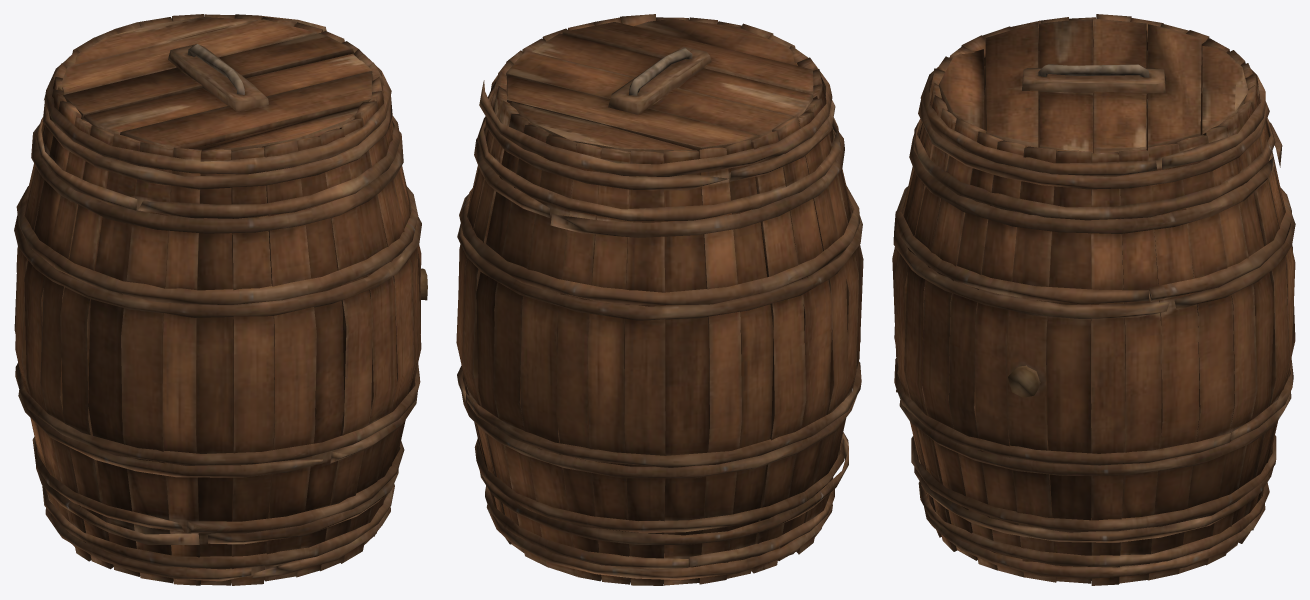
File: wooden_barrels_01_barrel02.gltf
3 renders of one model, left to right at view 1: azimuth 30°, elevation 25°; view 2: azimuth 150°, elevation 25°; view 3: azimuth 270°, elevation 25°, orthographic.
Parts seen in each view (by area): view 1: wooden_barrels_01_barrel02__x; view 2: wooden_barrels_01_barrel02__x; view 3: wooden_barrels_01_barrel02__x.
Boxes of the visible parts, x1,y1,x2,y2 form: wooden_barrels_01_barrel02__x: [14, 14, 427, 585]; wooden_barrels_01_barrel02__x: [456, 14, 863, 585]; wooden_barrels_01_barrel02__x: [892, 14, 1295, 585].
Size of the model in its own units: 0.7411 by 0.9213 by 0.7412.
Materials: 1 (1 with a texture image).
